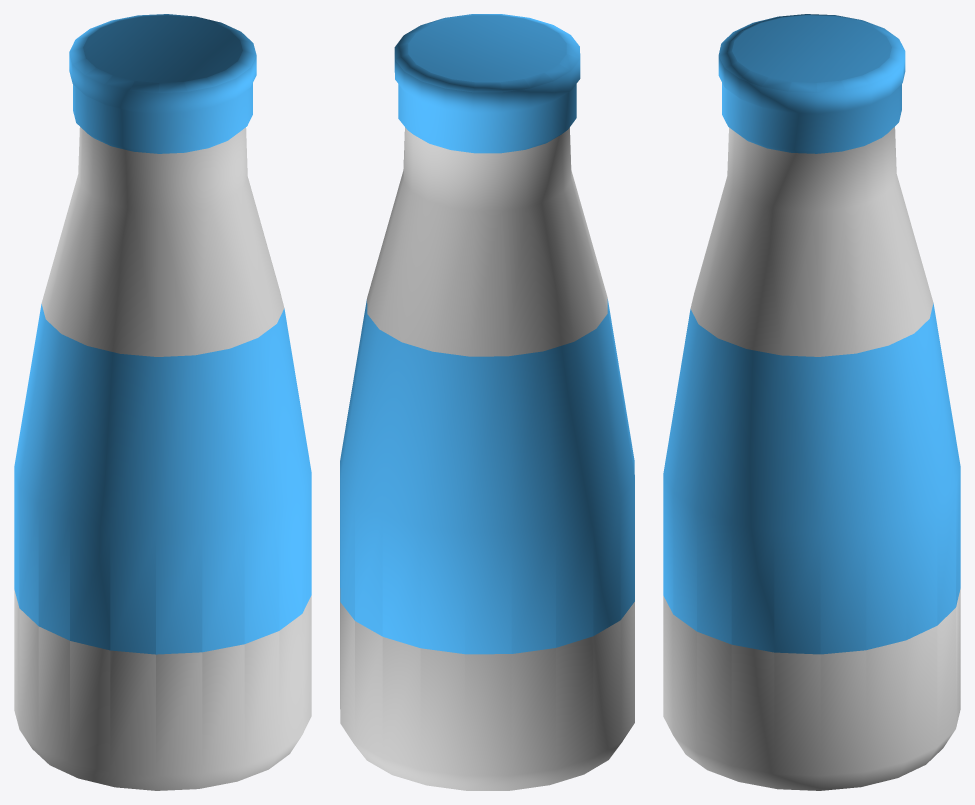
The model's file is Bottled Yogurt 2.fbx.
3 renders of one model, left to right at view 1: azimuth 30°, elevation 25°; view 2: azimuth 150°, elevation 25°; view 3: azimuth 270°, elevation 25°, orthographic.
Parts seen in each view (by area): view 1: Node 0; view 2: Node 0; view 3: Node 0.
Part boxes in pixels (bbox=[...]): Node 0: bbox=[14, 14, 311, 790]; Node 0: bbox=[340, 14, 634, 790]; Node 0: bbox=[663, 14, 960, 790].
Bounding box in the file's own units: 0.0635 × 0.1613 × 0.0635.
